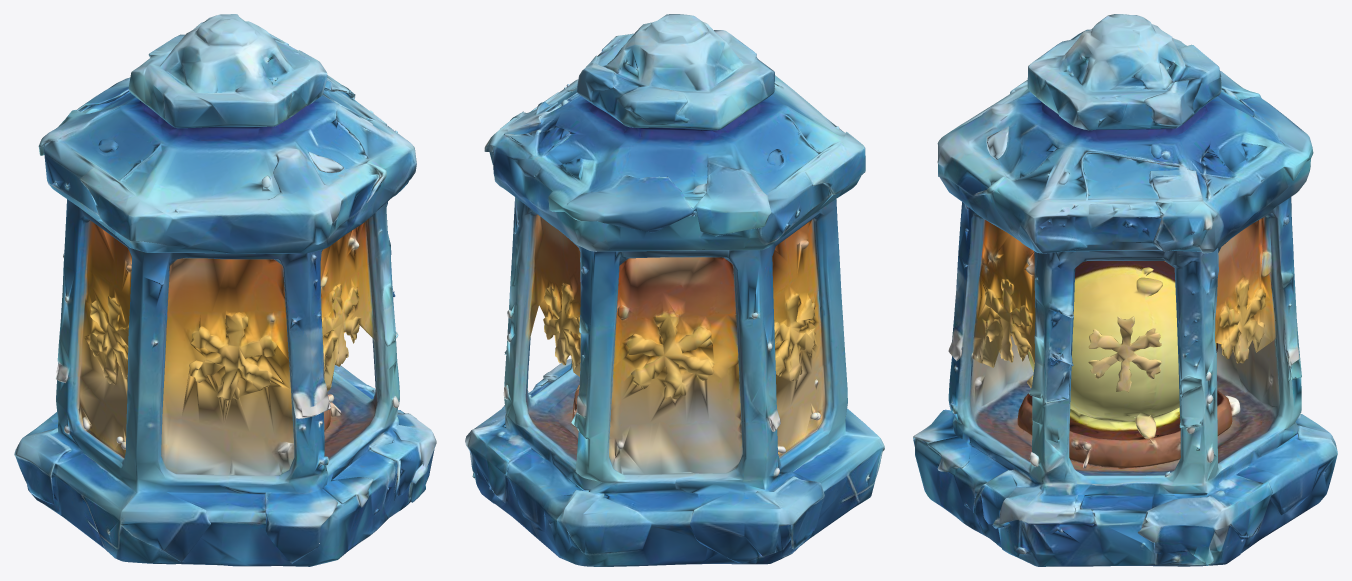
Rendered from box-snow-lantern-diet.glb.
3 renders of one model, left to right at view 1: azimuth 30°, elevation 25°; view 2: azimuth 150°, elevation 25°; view 3: azimuth 270°, elevation 25°, orthographic.
Visible parts, largest first — view 1: tripo_node_03ba81b2-bfcf-4c5a-8b80-834e8206263e; view 2: tripo_node_03ba81b2-bfcf-4c5a-8b80-834e8206263e; view 3: tripo_node_03ba81b2-bfcf-4c5a-8b80-834e8206263e.
Boxes of the visible parts, box(x1,y1,x2,y2) form: tripo_node_03ba81b2-bfcf-4c5a-8b80-834e8206263e: box(14, 14, 436, 566); tripo_node_03ba81b2-bfcf-4c5a-8b80-834e8206263e: box(465, 14, 884, 566); tripo_node_03ba81b2-bfcf-4c5a-8b80-834e8206263e: box(913, 14, 1337, 566).
Size of the model in its own units: 0.7237 by 0.982 by 0.7995.
Materials: 1 (1 with a texture image).
